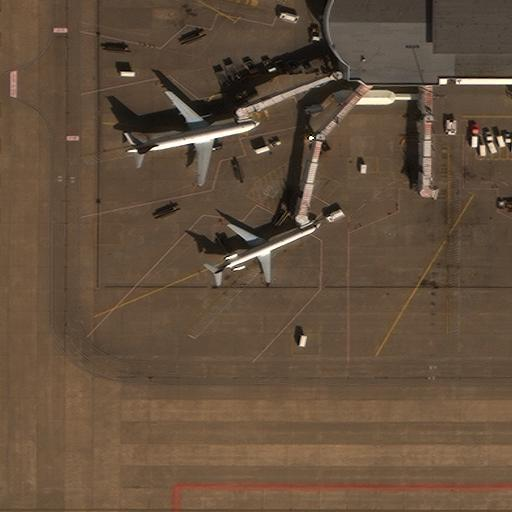Medium Civil Transport: (126, 90, 258, 183), (214, 223, 318, 282)
